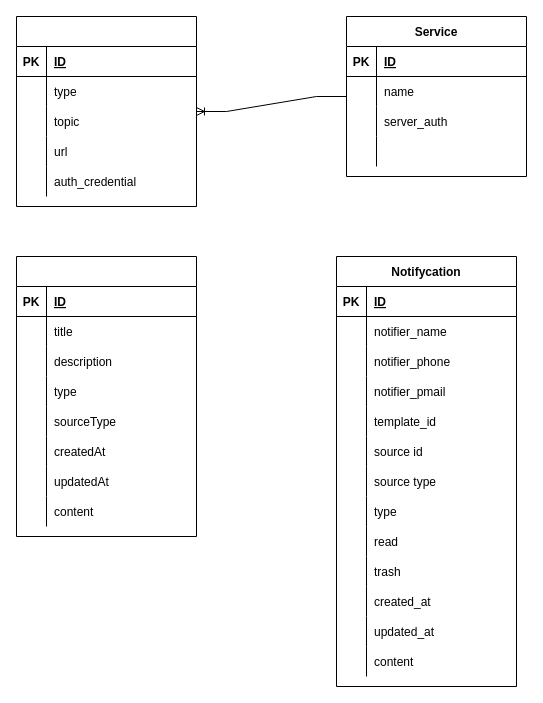
This 543x703 diagram has some shape labels left out. Here are the shapes that lost their labels. From the top down, the box of each, then its label:
(16, 16, 196, 206): Entity Trigger
(16, 256, 196, 536): Template
